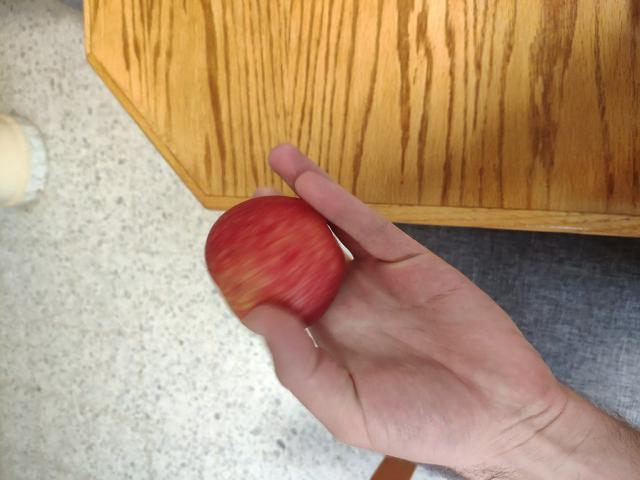apple: (202, 196, 358, 342)
